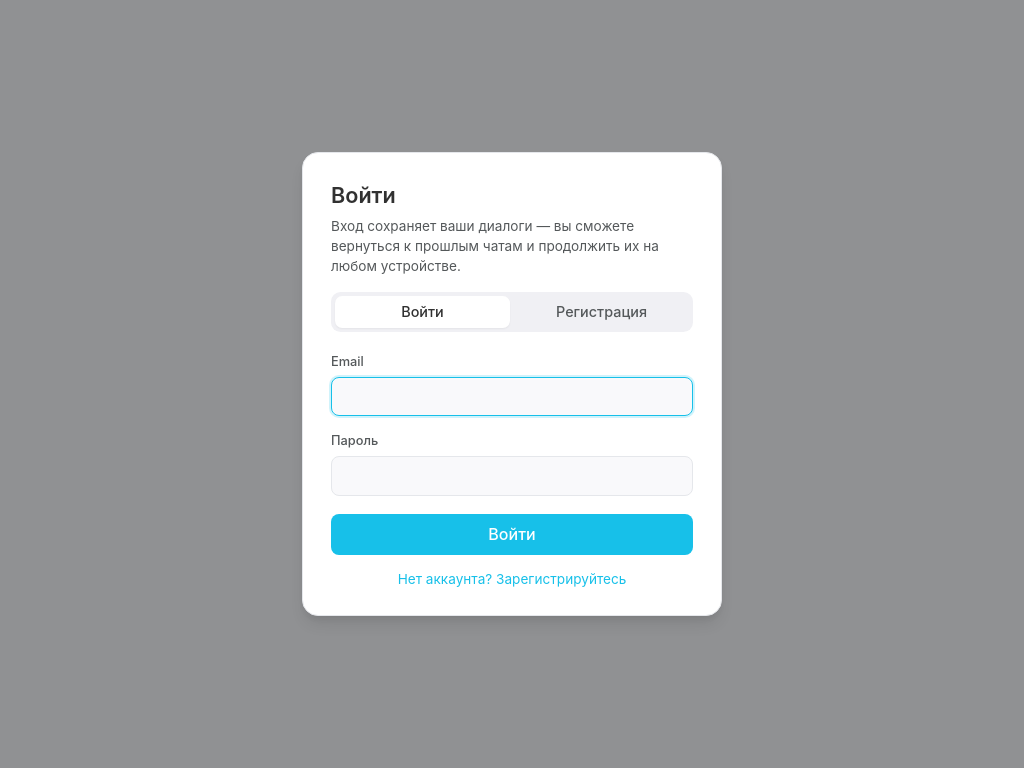
it: AuthModal › surfaces a backend error message and keeps the modal open
The width and height of the screenshot is (1024, 768).
Type "demo@nsu.ru" into the field labelled "Email" at x=512, y=397, box [331, 377, 693, 416]
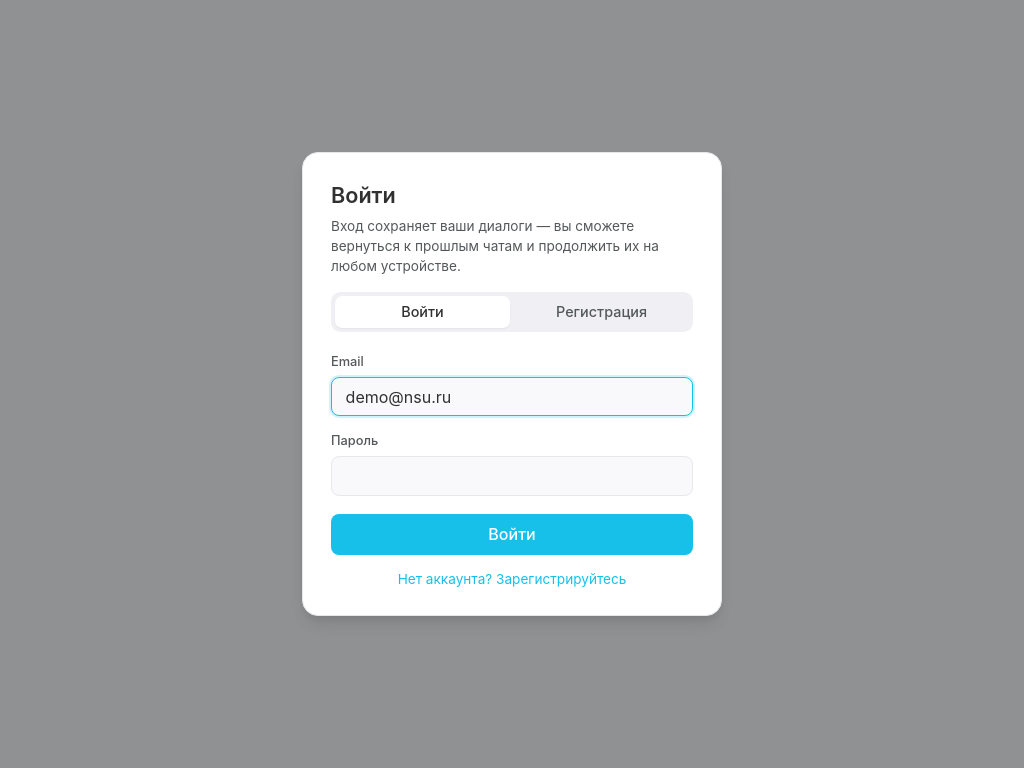
Type "wrong" into the password field labelled "Пароль" at x=512, y=476, box [331, 456, 693, 496]
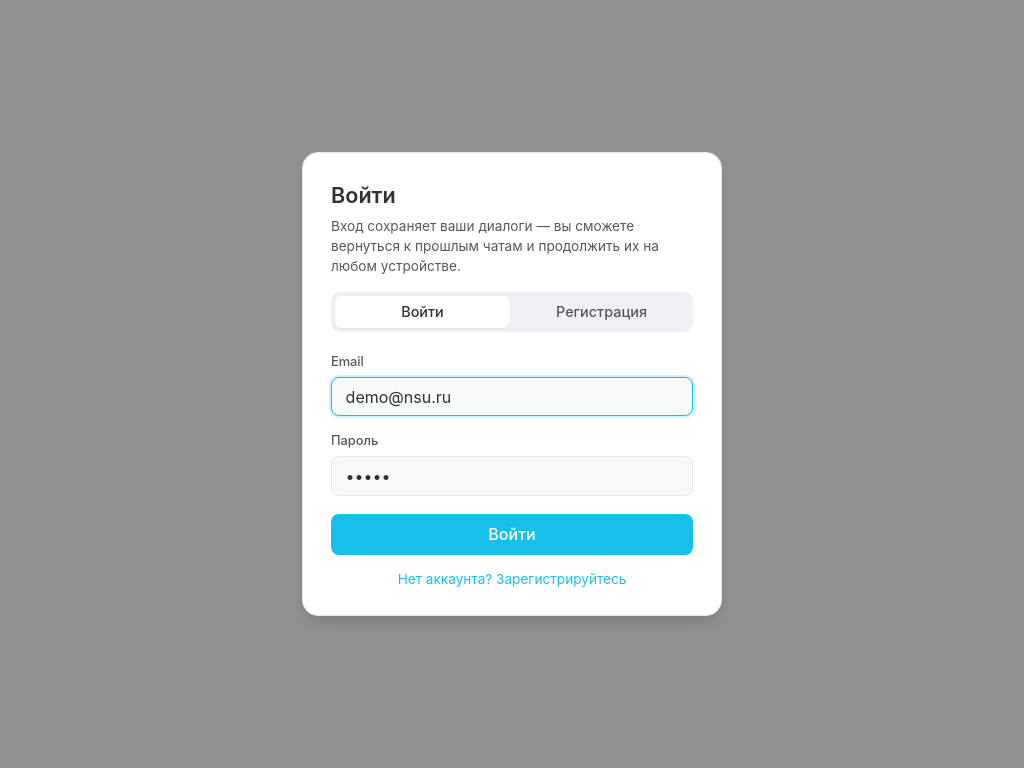
Submit the form, box [331, 352, 693, 555]
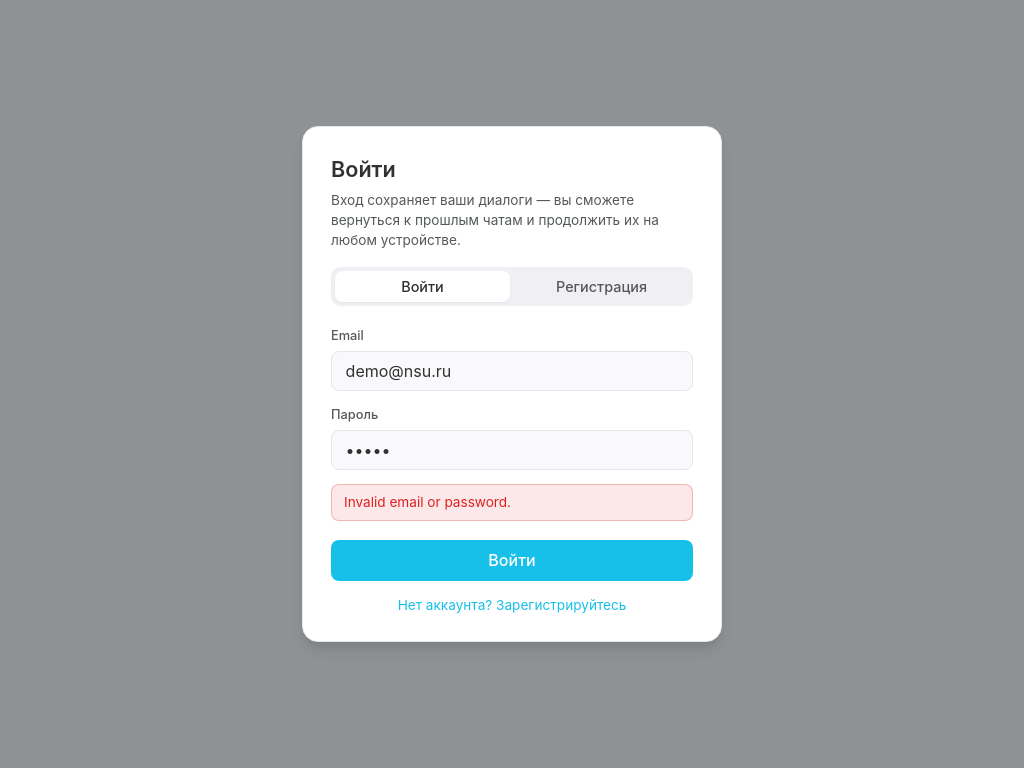
Check: the message shows "Invalid email", box [344, 494, 511, 510]
